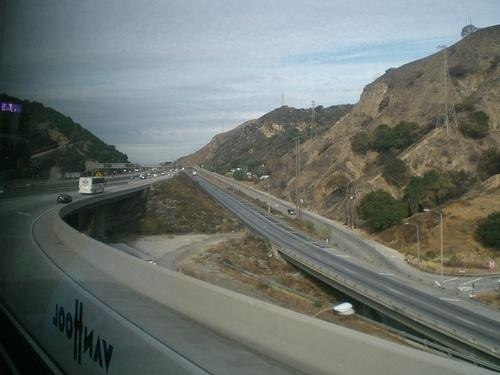bus: (78, 177, 106, 197)
car: (57, 195, 74, 207)
